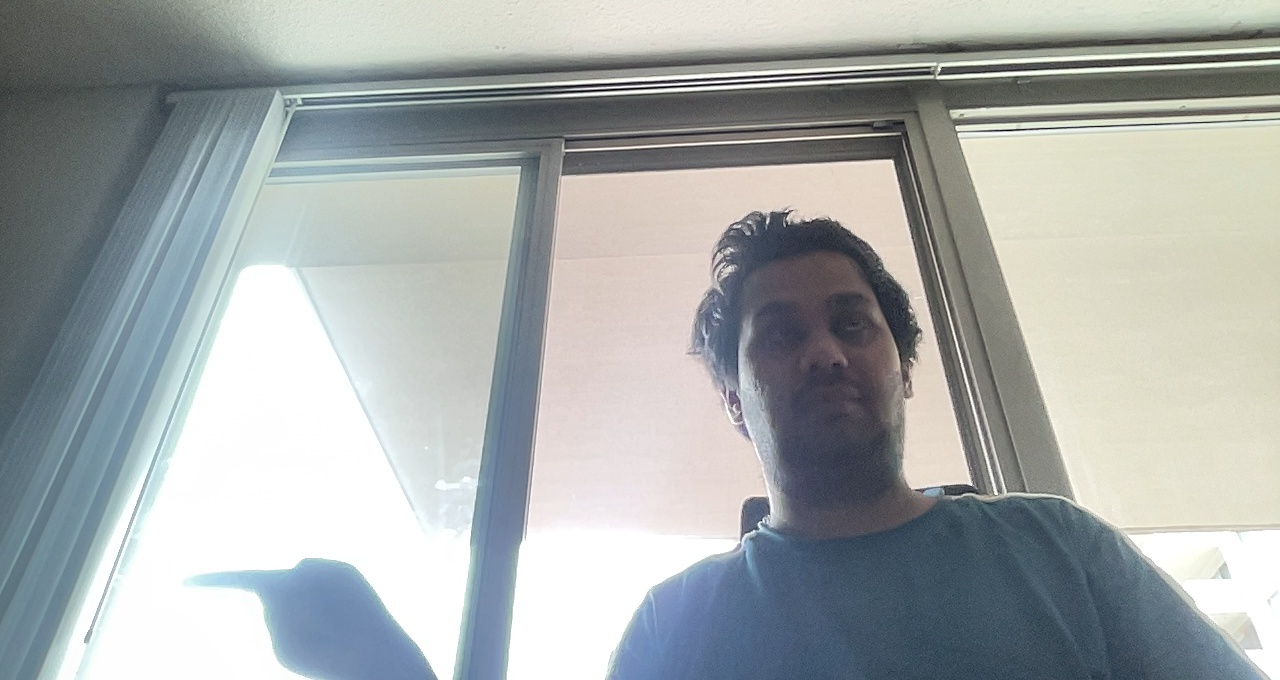fingerright: (173, 550, 423, 673)
